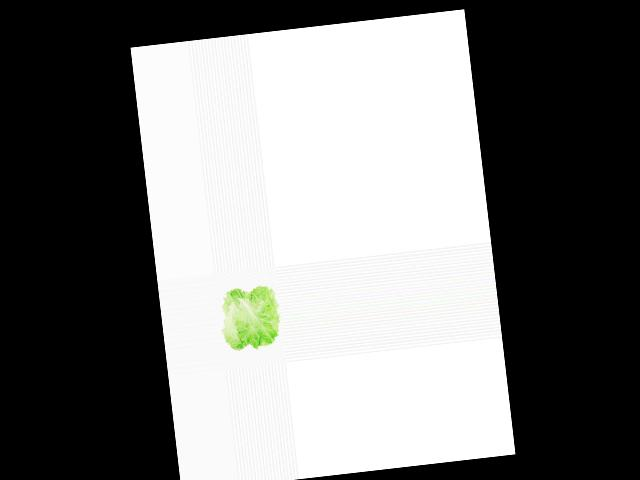lettuce: (215, 279, 285, 357)
